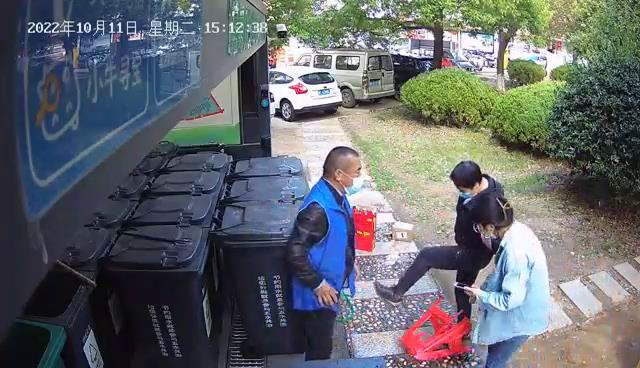person: (373, 160, 507, 362)
suliaozhipin: (399, 293, 473, 361)
worker: (455, 191, 551, 368), (285, 146, 364, 361)
zhizhipin: (353, 204, 379, 252), (390, 220, 416, 243)
